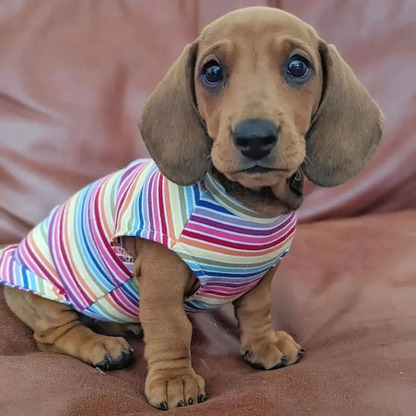dachshund: (46, 10, 368, 388)
